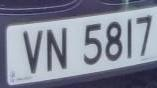1: (123, 14, 136, 60)
5: (81, 19, 105, 68)
7: (134, 10, 154, 58)
8: (102, 18, 123, 64)
N: (45, 23, 71, 77)
V: (21, 26, 45, 78)
